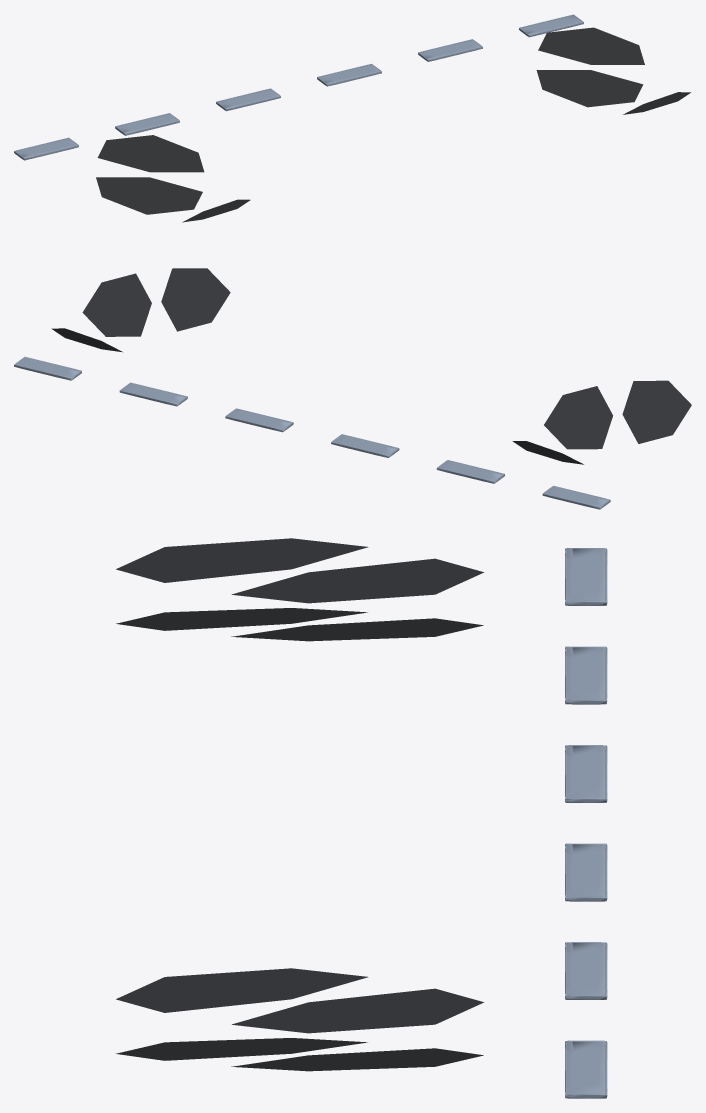
Rendered from splitter_ramps_skids.glb.
3 renders of one model, top to bottom at view 1: azimuth 30°, elevation 25°; view 2: azimuth 150°, elevation 25°; view 3: azimuth 270°, elevation 25°, orthographic. The views are drawn at different scales.
Visible parts, largest first — view 1: Splitter_Ramps_Skids_Assembly; view 2: Splitter_Ramps_Skids_Assembly; view 3: Splitter_Ramps_Skids_Assembly.
Boxes of the visible parts, left/top/right/bottom form: Splitter_Ramps_Skids_Assembly: left=14, top=14, right=690, bottom=222; Splitter_Ramps_Skids_Assembly: left=14, top=268, right=691, bottom=509; Splitter_Ramps_Skids_Assembly: left=115, top=538, right=607, bottom=1098.
Size of the model in its own units: 1.22 by 0.0633 by 0.48.
